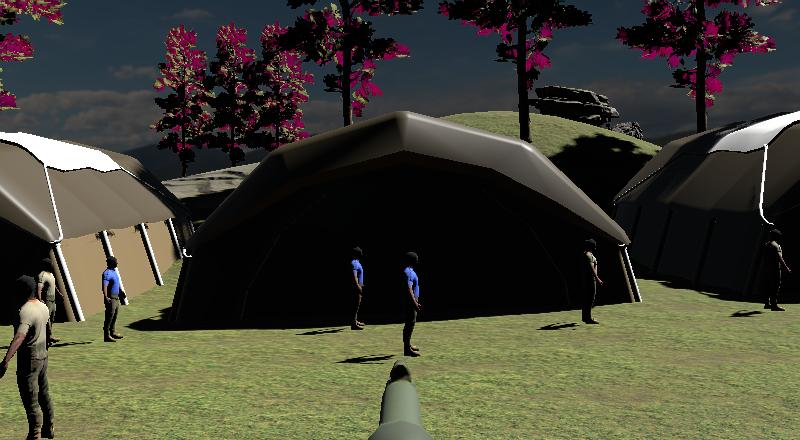Human: (0, 269, 58, 440), (398, 248, 427, 361), (98, 253, 131, 347), (99, 253, 131, 346), (579, 236, 606, 327), (347, 245, 371, 332)
